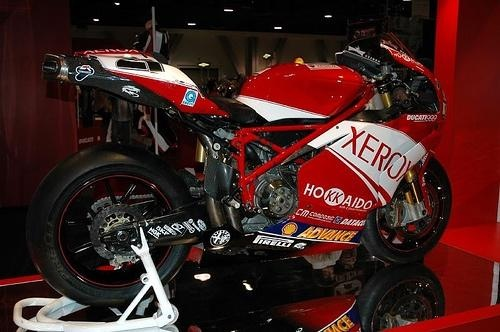motorbike: (33, 23, 461, 316)
